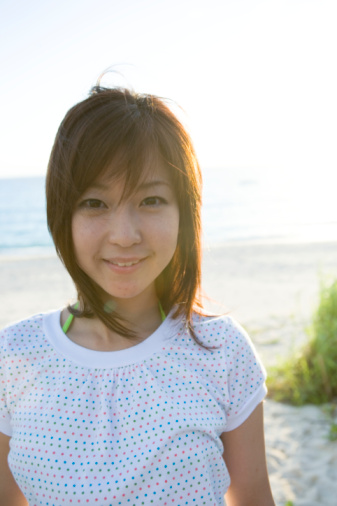em pe: (0, 85, 280, 487)
